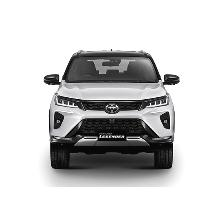NON-EV: (39, 49, 185, 171)
